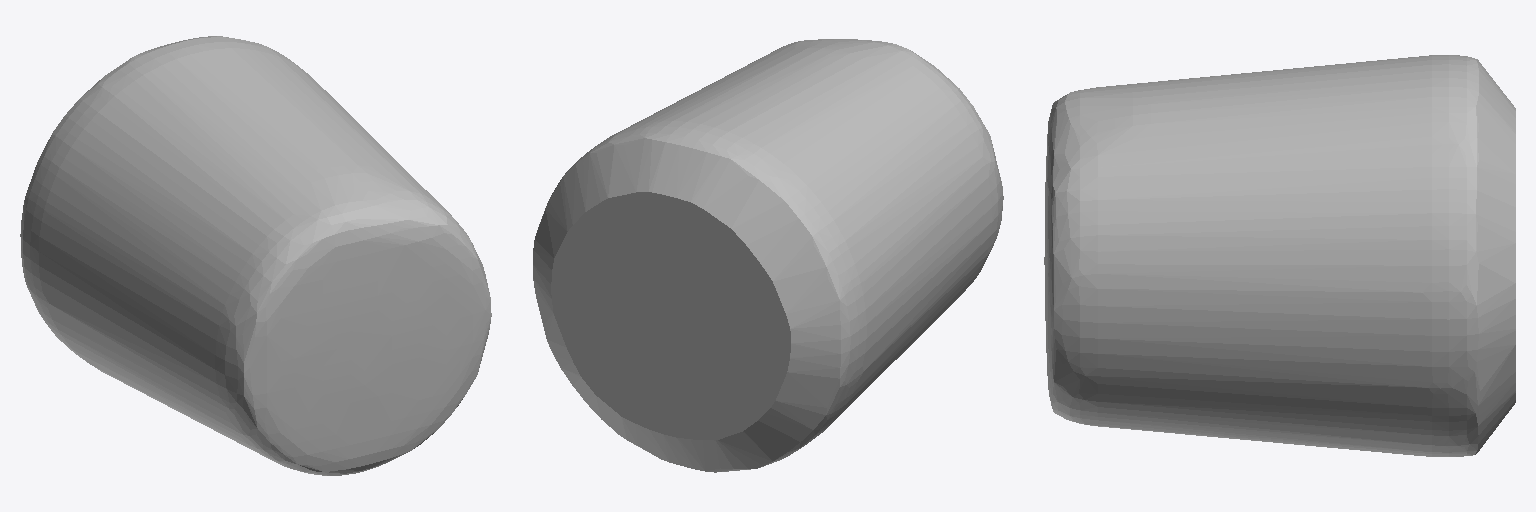
URDF robot description (root):
<robot name="root">
  <link name="link_coacd_convex_piece_0">
    <inertial>
      <origin xyz="0 0 0" rpy="0 0 0"/>
      <inertia ixx="2.11E-07" ixy="7.29E-11" ixz="-2.15E-10" iyy="3.82E-08" iyz="8.86E-10" izz="2.28E-07"/>
    </inertial>
    <visual>
      <origin xyz="0 0 0" rpy="0 0 0"/>
      <geometry>
        <mesh filename="coacd_convex_piece_0.obj" scale="1.0000E+00 1.0000E+00 1.0000E+00"/>
      </geometry>
      <material name="">
        <color rgba="7.50E-01 7.50E-01 7.50E-01 1"/>
      </material>
    </visual>
    <collision>
      <origin xyz="0 0 0" rpy="0 0 0"/>
      <geometry>
        <mesh filename="coacd_convex_piece_0.obj" scale="1.0000E+00 1.0000E+00 1.0000E+00"/>
      </geometry>
    </collision>
  </link>
  <link name="link_coacd_convex_piece_1">
    <inertial>
      <origin xyz="0 0 0" rpy="0 0 0"/>
      <inertia ixx="7.02E-08" ixy="-3.69E-11" ixz="1.14E-12" iyy="2.89E-09" iyz="2.93E-10" izz="7.02E-08"/>
    </inertial>
    <visual>
      <origin xyz="0 0 0" rpy="0 0 0"/>
      <geometry>
        <mesh filename="coacd_convex_piece_1.obj" scale="1.0000E+00 1.0000E+00 1.0000E+00"/>
      </geometry>
      <material name="">
        <color rgba="7.50E-01 7.50E-01 7.50E-01 1"/>
      </material>
    </visual>
    <collision>
      <origin xyz="0 0 0" rpy="0 0 0"/>
      <geometry>
        <mesh filename="coacd_convex_piece_1.obj" scale="1.0000E+00 1.0000E+00 1.0000E+00"/>
      </geometry>
    </collision>
  </link>
  <joint name="link_coacd_convex_piece_1_joint" type="fixed">
    <origin xyz="0 0 0" rpy="0 0 0"/>
    <parent link="link_coacd_convex_piece_0"/>
    <child link="link_coacd_convex_piece_1"/>
  </joint>
  <link name="link_coacd_convex_piece_2">
    <inertial>
      <origin xyz="0 0 0" rpy="0 0 0"/>
      <inertia ixx="1.84E-08" ixy="4.09E-11" ixz="-9.04E-11" iyy="1.70E-08" iyz="3.08E-10" izz="2.54E-08"/>
    </inertial>
    <visual>
      <origin xyz="0 0 0" rpy="0 0 0"/>
      <geometry>
        <mesh filename="coacd_convex_piece_2.obj" scale="1.0000E+00 1.0000E+00 1.0000E+00"/>
      </geometry>
      <material name="">
        <color rgba="7.50E-01 7.50E-01 7.50E-01 1"/>
      </material>
    </visual>
    <collision>
      <origin xyz="0 0 0" rpy="0 0 0"/>
      <geometry>
        <mesh filename="coacd_convex_piece_2.obj" scale="1.0000E+00 1.0000E+00 1.0000E+00"/>
      </geometry>
    </collision>
  </link>
  <joint name="link_coacd_convex_piece_2_joint" type="fixed">
    <origin xyz="0 0 0" rpy="0 0 0"/>
    <parent link="link_coacd_convex_piece_1"/>
    <child link="link_coacd_convex_piece_2"/>
  </joint>
</robot>

--- What the picture shows (computed from the rendered views, not written in the file) ---
Views: 3 orthographic renders of the robot side by side, from view 1: azimuth 30°, elevation 25°; view 2: azimuth 150°, elevation 25°; view 3: azimuth 270°, elevation 25°.
Robot: root — 3 links, 2 joints (2 fixed); root link link_coacd_convex_piece_0; default pose: all joints at 0.
Links seen in each view (by area): view 1: link_coacd_convex_piece_1; view 2: link_coacd_convex_piece_1; view 3: link_coacd_convex_piece_1.
Link boxes in pixels (left/top/right/bottom): link_coacd_convex_piece_1: left=20, top=36, right=491, bottom=475; link_coacd_convex_piece_1: left=533, top=39, right=1003, bottom=472; link_coacd_convex_piece_1: left=1044, top=55, right=1515, bottom=456.
Bounding box of the posed robot: 0.0336 × 0.0393 × 0.0334 m (x, y, z).
1 mesh visuals loaded from 3 distinct referenced files (1 OBJ); not drawn: 2 (reference not matched to a file when rendering).